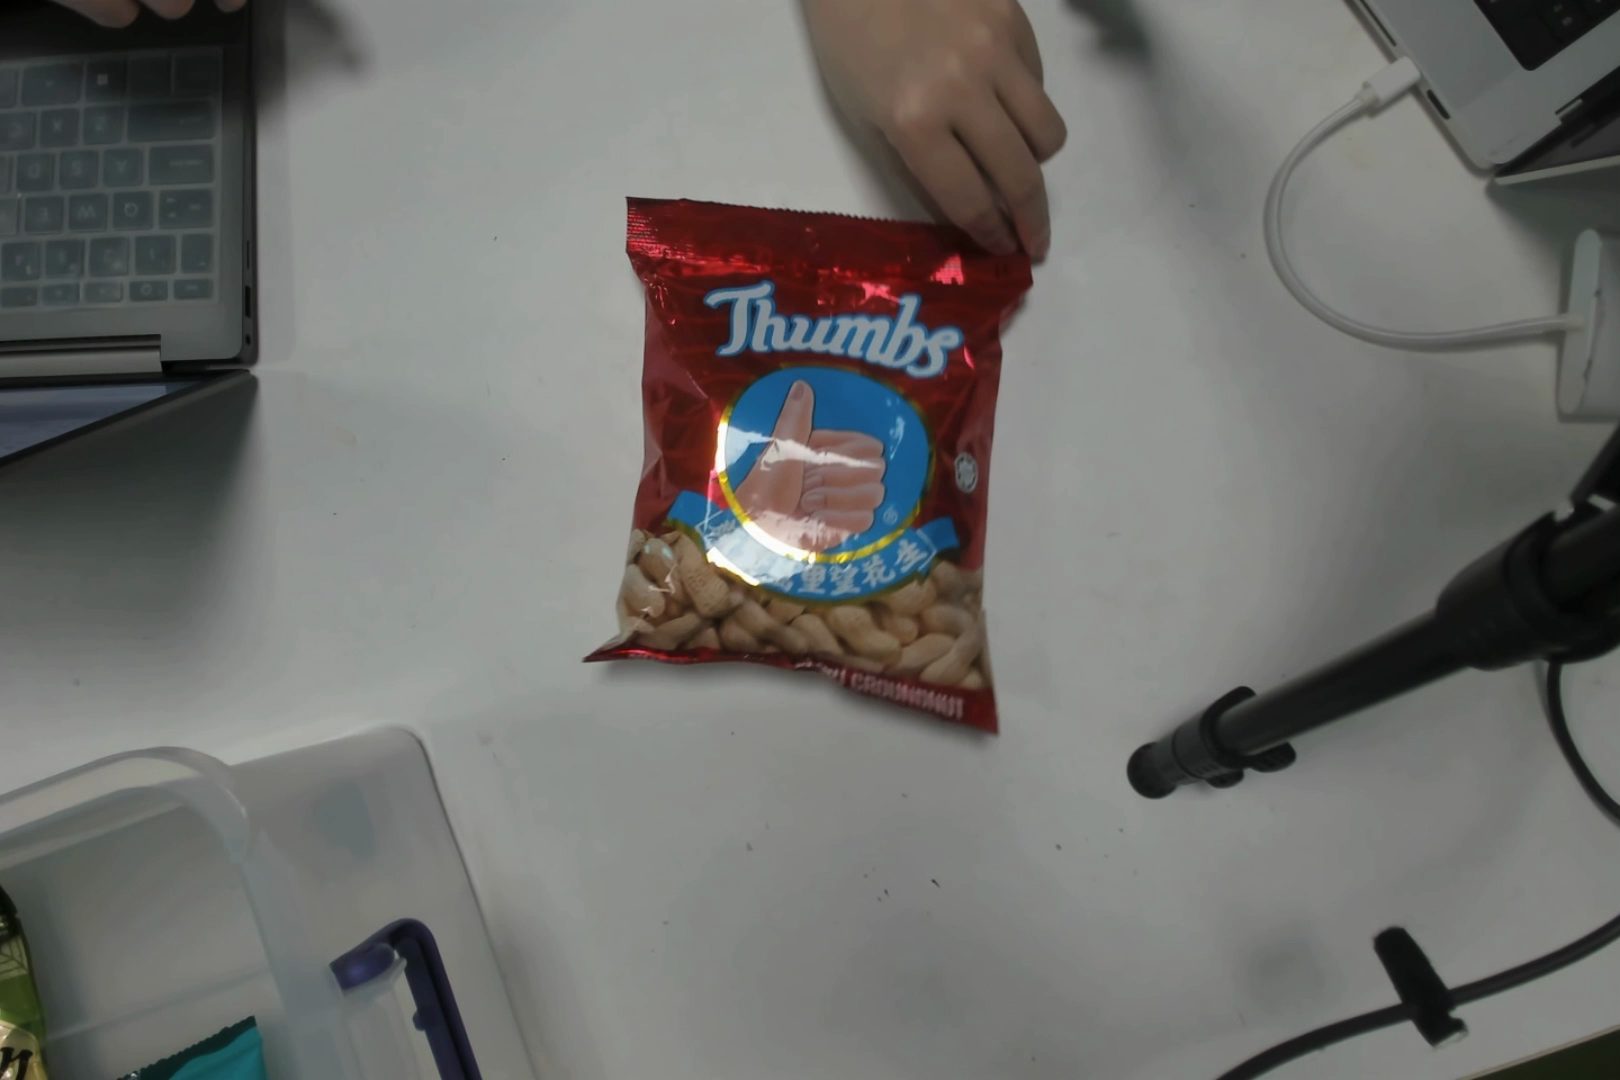Nuts_100-199g_Halal_NonHealthy: (633, 221, 1002, 706)
